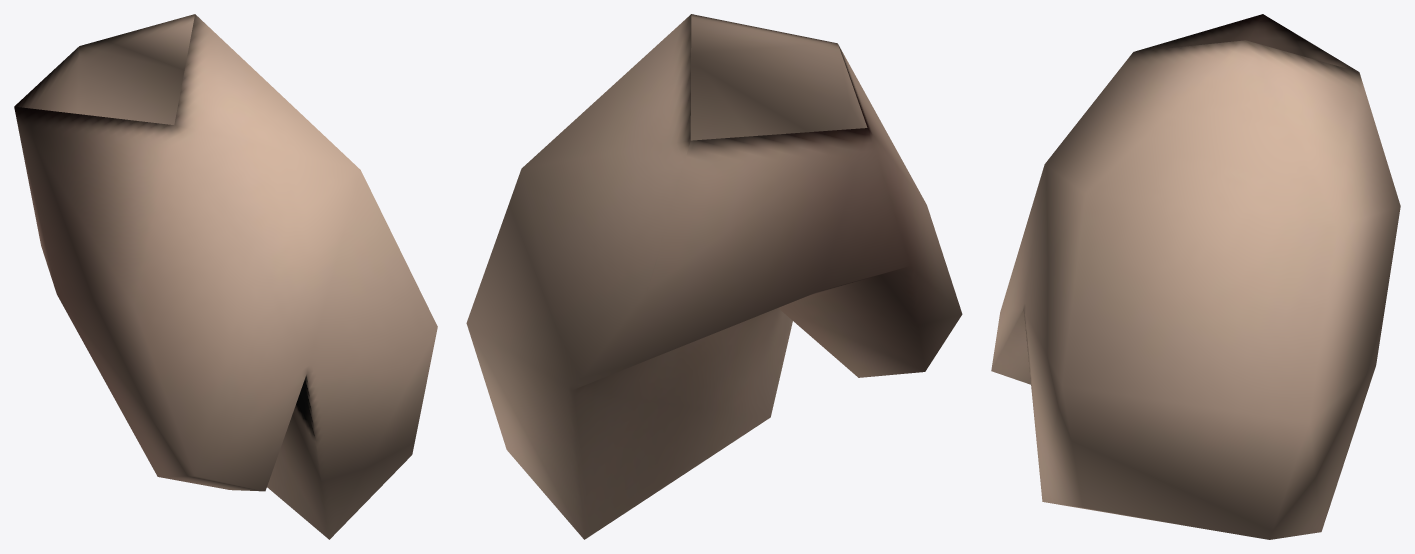
The model's file is Hand.fbx.
3 views of the same model, side by side, from view 1: azimuth 30°, elevation 25°; view 2: azimuth 150°, elevation 25°; view 3: azimuth 270°, elevation 25° (orthographic). The views are drawn at different scales.
Parts seen in each view (by area): view 1: Attachment_L_Hand; view 2: Attachment_L_Hand; view 3: Attachment_L_Hand.
Boxes of the visible parts, <box> form: Attachment_L_Hand: <box>14,14,437,539</box>; Attachment_L_Hand: <box>466,14,962,539</box>; Attachment_L_Hand: <box>991,14,1400,539</box>.
Size of the model in its own units: 19.11 by 24.86 by 19.92.
